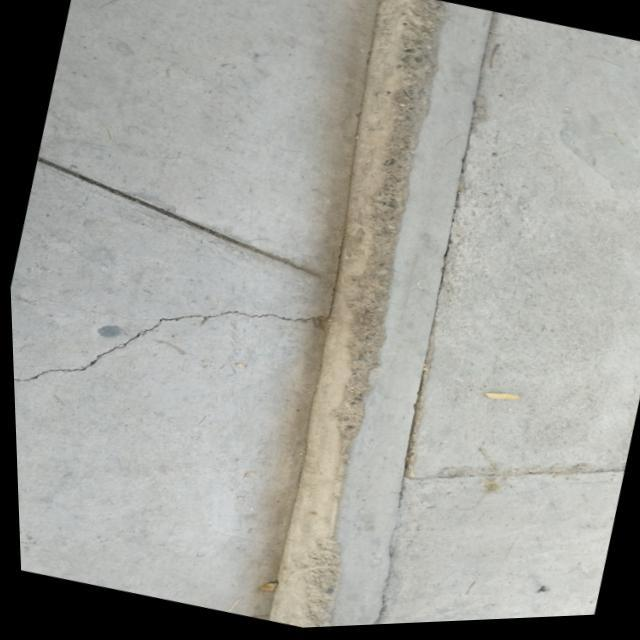bump: (214, 20, 517, 609)
